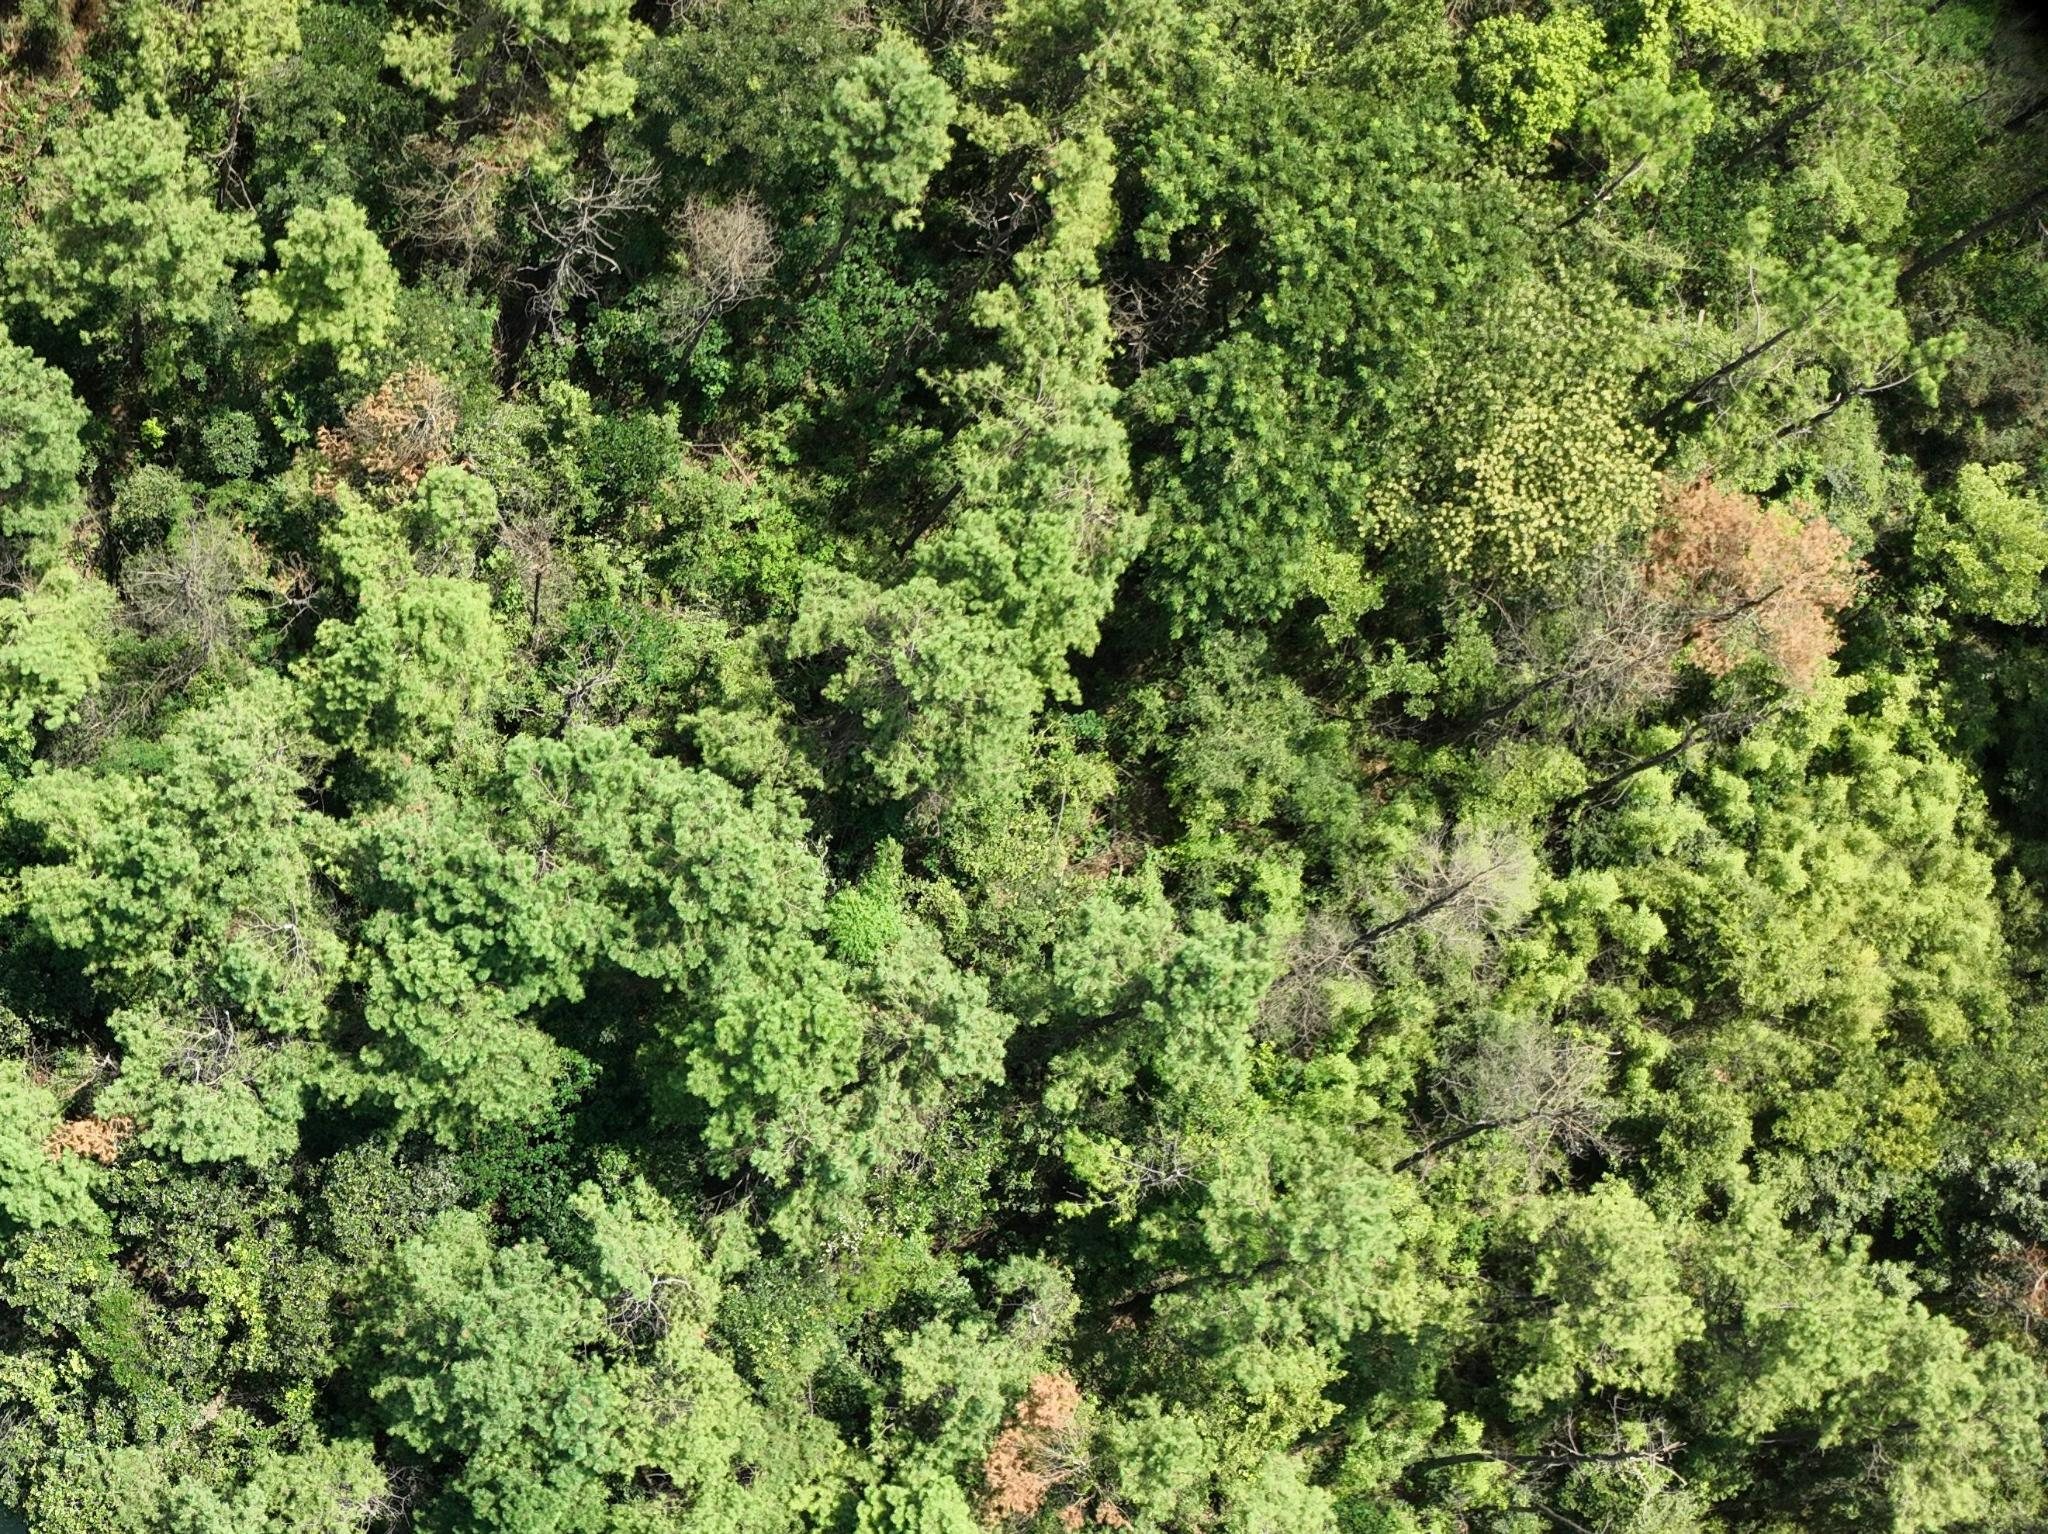dead: (1470, 1043, 1608, 1176), (1408, 841, 1521, 949), (669, 190, 773, 306), (1263, 938, 1354, 1046)
heavy: (1655, 477, 1856, 678), (980, 1371, 1107, 1523), (314, 374, 464, 490)
